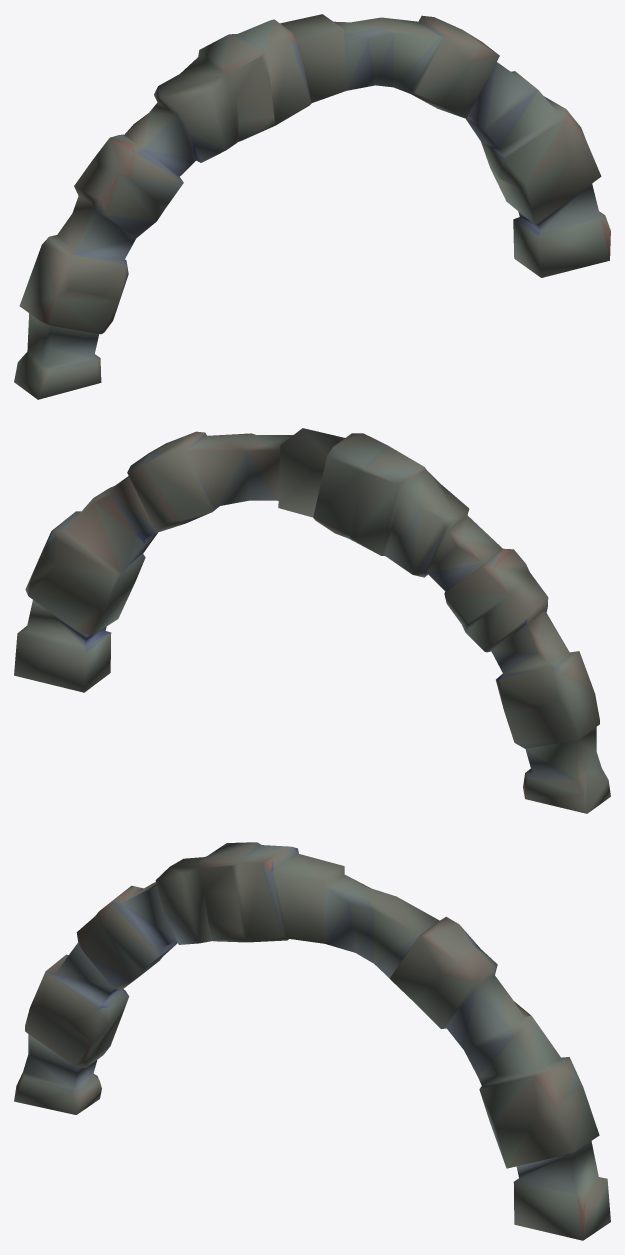
The model's file is castle_arch_02_LOD.fbx.
The picture shows the model from 3 angles, top to bottom: view 1: azimuth 30°, elevation 25°; view 2: azimuth 150°, elevation 25°; view 3: azimuth 330°, elevation 25°; orthographic projection.
Parts seen in each view (by area): view 1: castle_arch_02_LOD; view 2: castle_arch_02_LOD; view 3: castle_arch_02_LOD.
Part boxes in pixels (x1,y1,x2,y2): castle_arch_02_LOD: (14, 14, 610, 399); castle_arch_02_LOD: (14, 428, 610, 813); castle_arch_02_LOD: (14, 842, 610, 1240).
Bounding box in the file's own units: 825 × 417 × 80.85.
